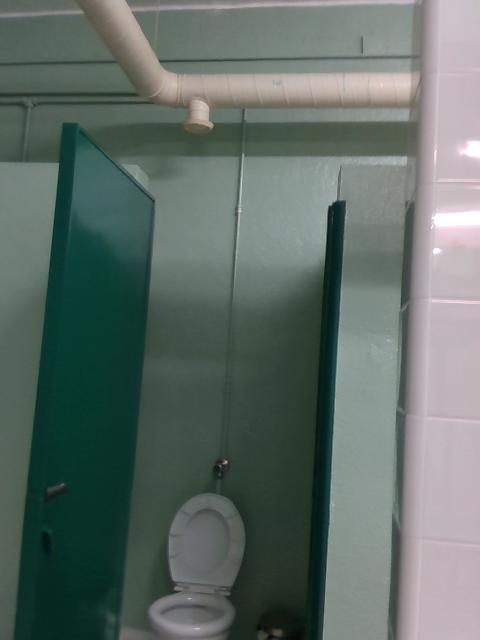open_door: (105, 201, 344, 639)
